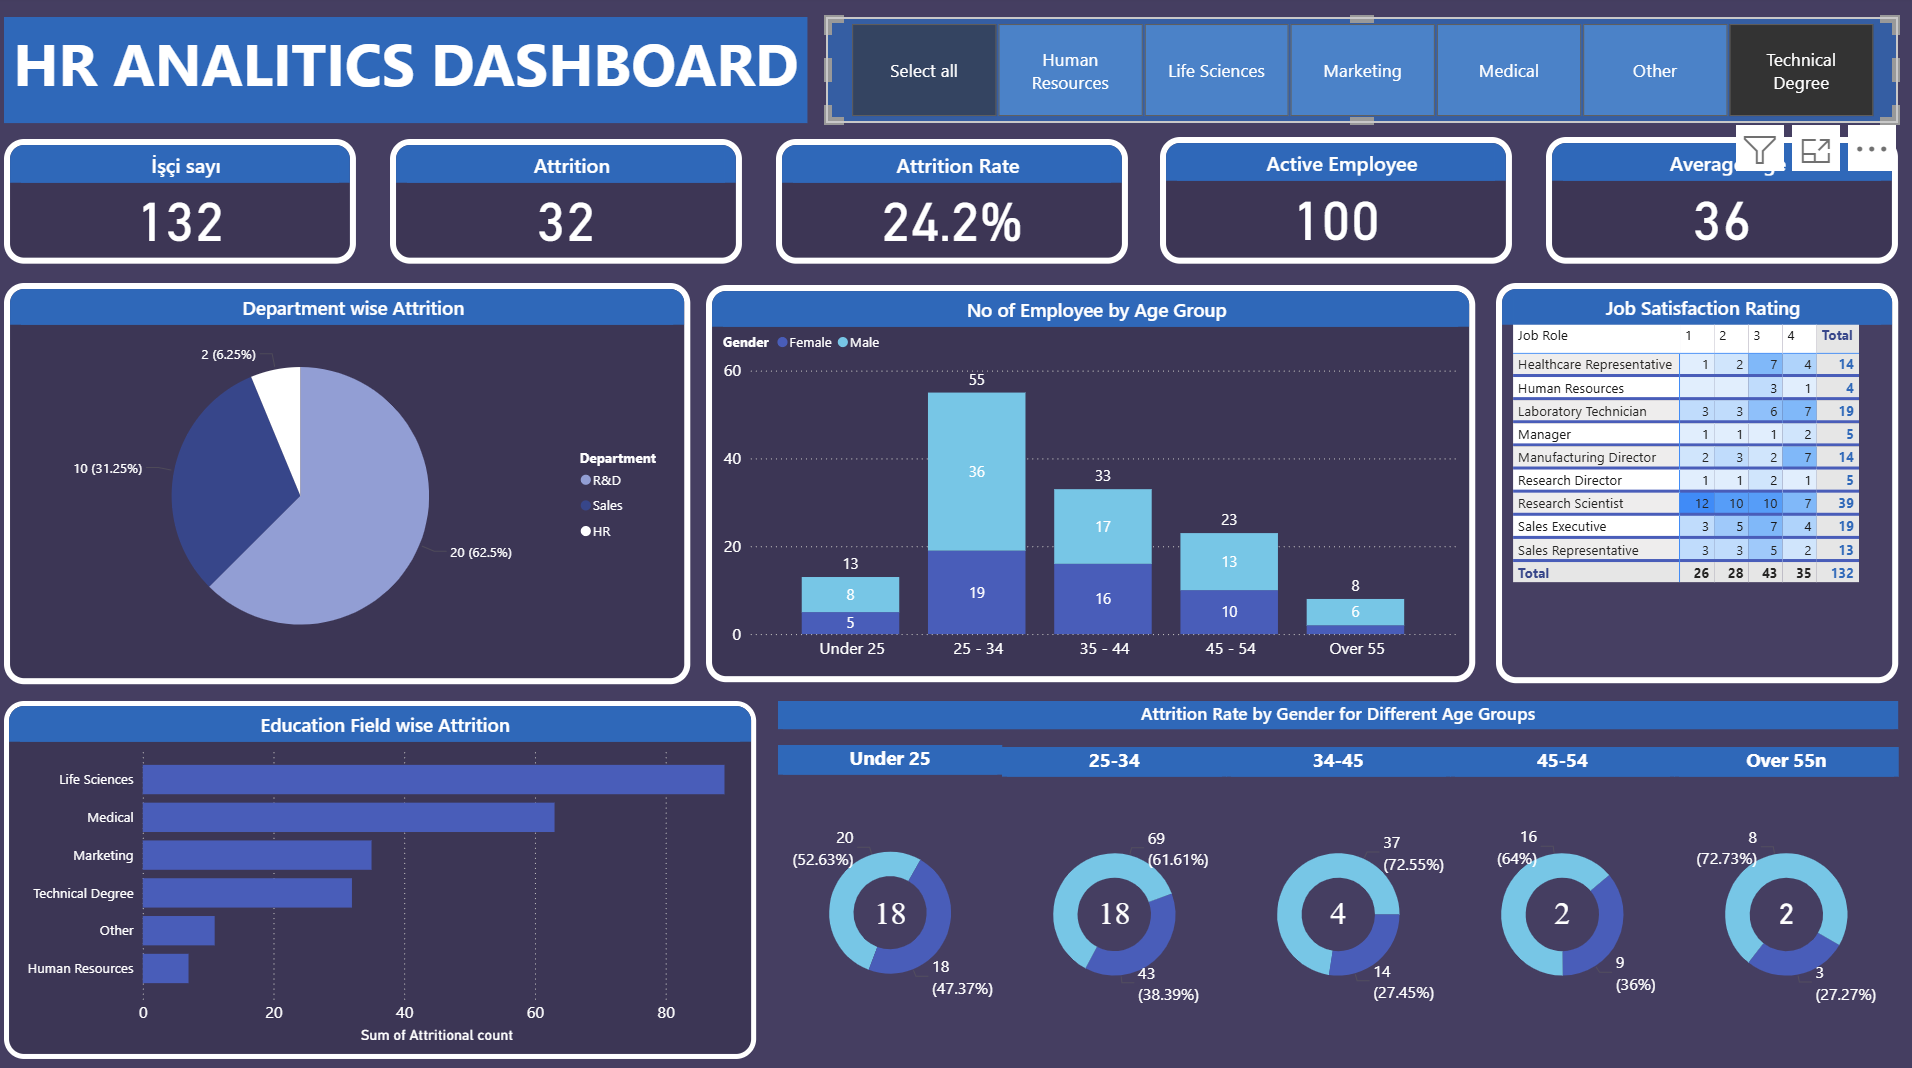

Layout of this report page (visuals, bound fields, positions):
{"tool":"powerbi","page":{"name":"hr_analytics_dashboard","canvas":[1920,1080],"ordinal":0},"visuals":[{"type":"card","title":"İşçi sayı","fields":{"Values":["Sum(HR data.Employee Count)"]},"box":[16,145.2,350,124],"z":0},{"type":"card","title":"Attrition","fields":{"Values":["Sum(HR data.Attritional count)"]},"box":[399.5,145.2,350,124],"z":1000},{"type":"card","title":"Attrition Rate","fields":{"Values":["HR data.Attrition Rate"]},"box":[783,145.2,350,124],"z":2000},{"type":"card","title":"Active Employee","fields":{"Values":["HR data.Active Employee"]},"box":[1166.5,144.2,350,126],"z":3000},{"type":"card","title":"Average Age","fields":{"Values":["Avg(HR data.Age)"]},"box":[1550,144.2,350,126],"z":4000},{"type":"pieChart","title":"Department wise Attrition","fields":{"Category":["HR data.Department"],"Y":["Sum(HR data.Attritional count)"]},"box":[16.2,287.5,682.5,398.8],"z":5000},{"type":"barChart","title":"Education Field wise Attrition","fields":{"Category":["HR data.Education Field"],"Y":["Sum(HR data.Attritional count)"]},"box":[16,704,748,356],"z":6000},{"type":"columnChart","title":"No of Employee by Age Group","fields":{"Category":["HR data.CF_age band"],"Y":["Sum(HR data.Employee Count)"],"Series":["HR data.Gender"]},"box":[715,290,765,395],"z":7000},{"type":"textbox","title":"Attrition Rate by Gender for Different Age Groups","box":[786,704,1114,28],"z":8000},{"type":"pivotTable","title":"Job Satisfaction Rating","fields":{"Rows":["HR data.Job Role"],"Columns":["HR data.Job Satisfaction"],"Values":["Sum(HR data.Employee Count)"]},"box":[1500,288,400,398],"z":9000},{"type":"donutChart","title":"25-34","fields":{"Category":["HR data.Gender"],"Y":["Sum(HR data.Attritional count)"],"Series":["HR data.CF_age band"]},"box":[1007.8,748.9,223.4,308.5],"z":10000},{"type":"textbox","box":[16.1,23,799.2,105.6],"z":11000},{"type":"donutChart","title":"Under 25","fields":{"Category":["HR data.Gender"],"Y":["Sum(HR data.Attritional count)"],"Series":["HR data.CF_age band"]},"box":[785.5,748.7,222.9,309],"z":12000},{"type":"donutChart","title":"34-45","fields":{"Category":["HR data.Gender"],"Y":["Sum(HR data.Attritional count)"],"Series":["HR data.CF_age band"]},"box":[1230.5,748.9,223.4,308.5],"z":13000},{"type":"donutChart","title":"Over 55n ","fields":{"Category":["HR data.Gender"],"Y":["Sum(HR data.Attritional count)"],"Series":["HR data.CF_age band"]},"box":[1676,748.9,223.4,308.5],"z":14000},{"type":"donutChart","title":"45-54","fields":{"Category":["HR data.Gender"],"Y":["Sum(HR data.Attritional count)"],"Series":["HR data.CF_age band"]},"box":[1453.2,748.9,223.4,308.5],"z":15000},{"type":"card","fields":{"Values":["Sum(HR data.Attritional count)"]},"box":[847.2,860,100.2,109.2],"z":16000},{"type":"card","fields":{"Values":["Sum(HR data.Attritional count)"]},"box":[1069.8,860,100.2,109.2],"z":17000},{"type":"card","fields":{"Values":["Sum(HR data.Attritional count)"]},"box":[1292.4,860,100.2,109.2],"z":18000},{"type":"card","fields":{"Values":["Sum(HR data.Attritional count)"]},"box":[1514.9,860,100.2,109.2],"z":19000},{"type":"card","fields":{"Values":["Sum(HR data.Attritional count)"]},"box":[1737.5,860,100.2,109.2],"z":20000},{"type":"slicer","fields":{"Values":["HR data.Education Field"]},"box":[833.7,23,1065.6,105.6],"z":21000}]}

Visuals, with their boxes in screenshot pixels (x1, y1, x2, y2), scaled from the page's 1920x1080 canvas onto the 1912x1068 screenshot:
"İşçi sayı" card: {"x1": 16, "y1": 144, "x2": 364, "y2": 266}
"Attrition" card: {"x1": 398, "y1": 144, "x2": 746, "y2": 266}
"Attrition Rate" card: {"x1": 780, "y1": 144, "x2": 1128, "y2": 266}
"Active Employee" card: {"x1": 1162, "y1": 143, "x2": 1510, "y2": 267}
"Average Age" card: {"x1": 1544, "y1": 143, "x2": 1892, "y2": 267}
"Department wise Attrition" pieChart: {"x1": 16, "y1": 284, "x2": 696, "y2": 679}
"Education Field wise Attrition" barChart: {"x1": 16, "y1": 696, "x2": 761, "y2": 1048}
"No of Employee by Age Group" columnChart: {"x1": 712, "y1": 287, "x2": 1474, "y2": 677}
"Attrition Rate by Gender for Different Age Groups" textbox: {"x1": 783, "y1": 696, "x2": 1892, "y2": 724}
"Job Satisfaction Rating" pivotTable: {"x1": 1494, "y1": 285, "x2": 1892, "y2": 678}
"25-34" donutChart: {"x1": 1004, "y1": 741, "x2": 1226, "y2": 1046}
textbox: {"x1": 16, "y1": 23, "x2": 812, "y2": 127}
"Under 25" donutChart: {"x1": 782, "y1": 740, "x2": 1004, "y2": 1046}
"34-45" donutChart: {"x1": 1225, "y1": 741, "x2": 1448, "y2": 1046}
"Over 55n " donutChart: {"x1": 1669, "y1": 741, "x2": 1891, "y2": 1046}
"45-54" donutChart: {"x1": 1447, "y1": 741, "x2": 1670, "y2": 1046}
card - Sum(HR data.Attritional count): {"x1": 844, "y1": 850, "x2": 943, "y2": 958}
card - Sum(HR data.Attritional count): {"x1": 1065, "y1": 850, "x2": 1165, "y2": 958}
card - Sum(HR data.Attritional count): {"x1": 1287, "y1": 850, "x2": 1387, "y2": 958}
card - Sum(HR data.Attritional count): {"x1": 1509, "y1": 850, "x2": 1608, "y2": 958}
card - Sum(HR data.Attritional count): {"x1": 1730, "y1": 850, "x2": 1830, "y2": 958}
slicer - HR data.Education Field: {"x1": 830, "y1": 23, "x2": 1891, "y2": 127}
